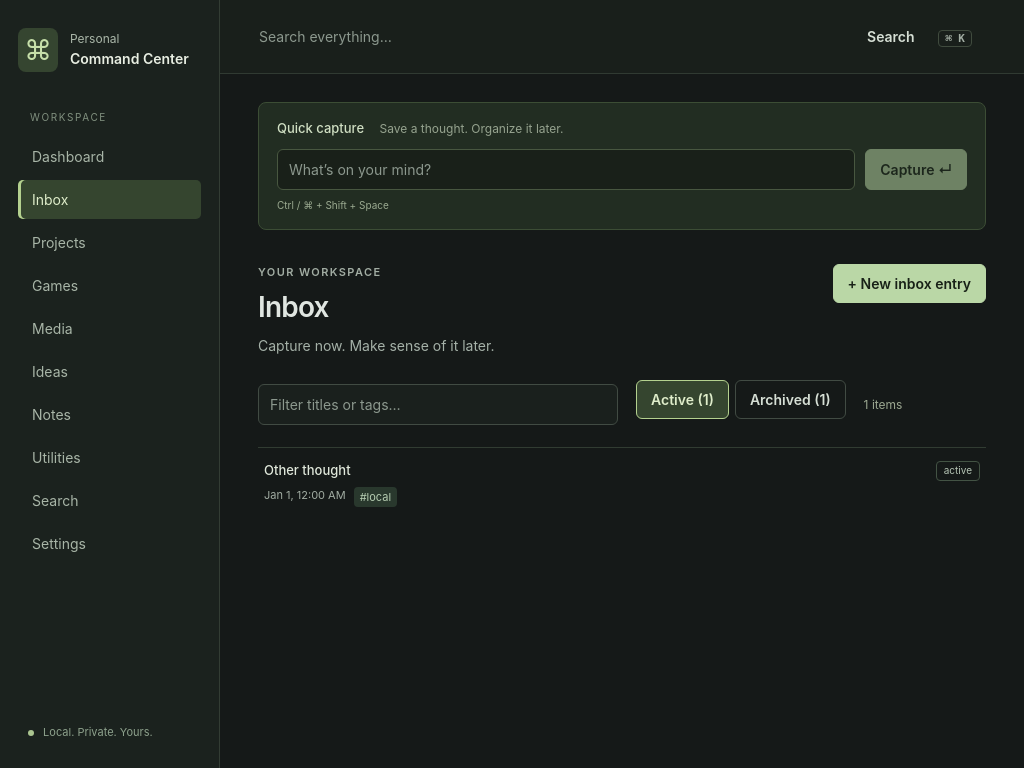
Test case: converted source names destination and explicit inbox modes preserve filters
This screenshot has width=1024, height=768.
Click the button "Archived (1)" at (790, 400), box [735,380,846,419]
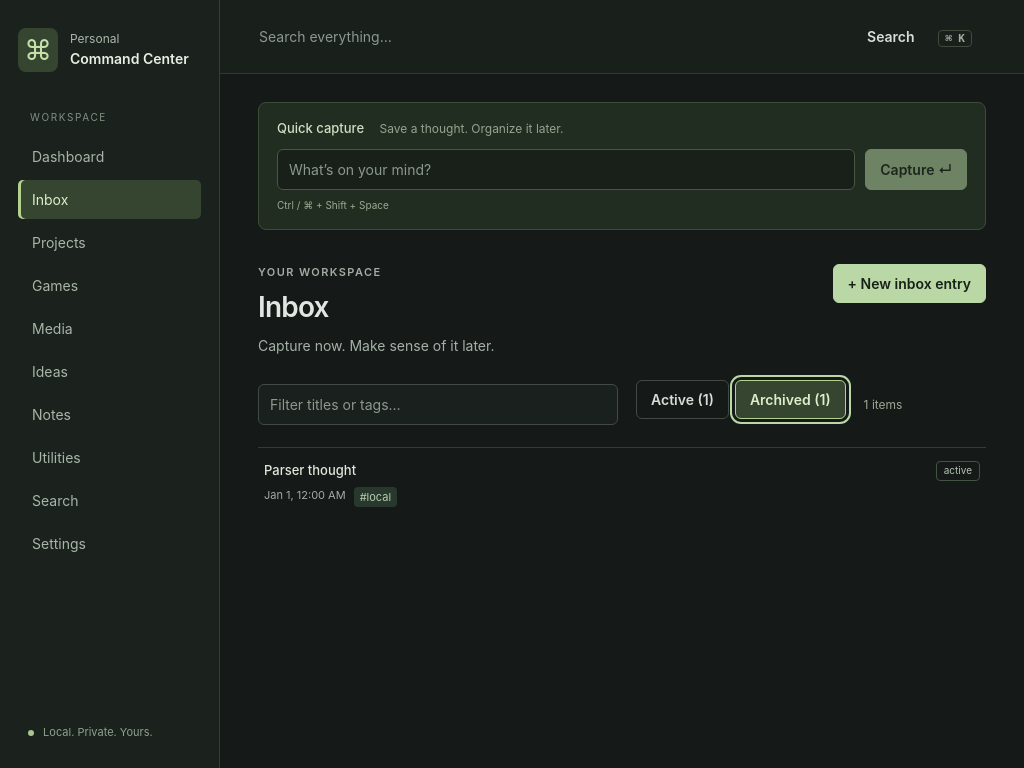
Type "Parser" into the field named "Filter inbox" at (438, 404), box [258,384,618,425]
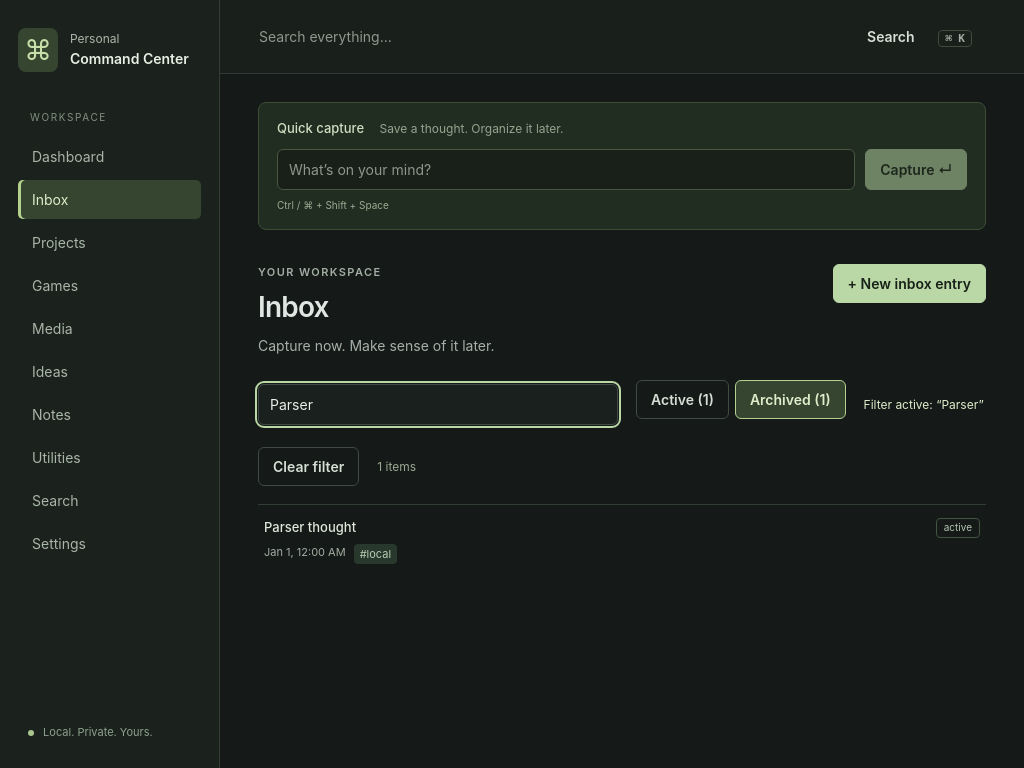
Now the text "Filter active: “Parser”" is shown, box [864,396,984,414]
Click the button "Clear filter" at (309, 466), box [258,447,359,486]
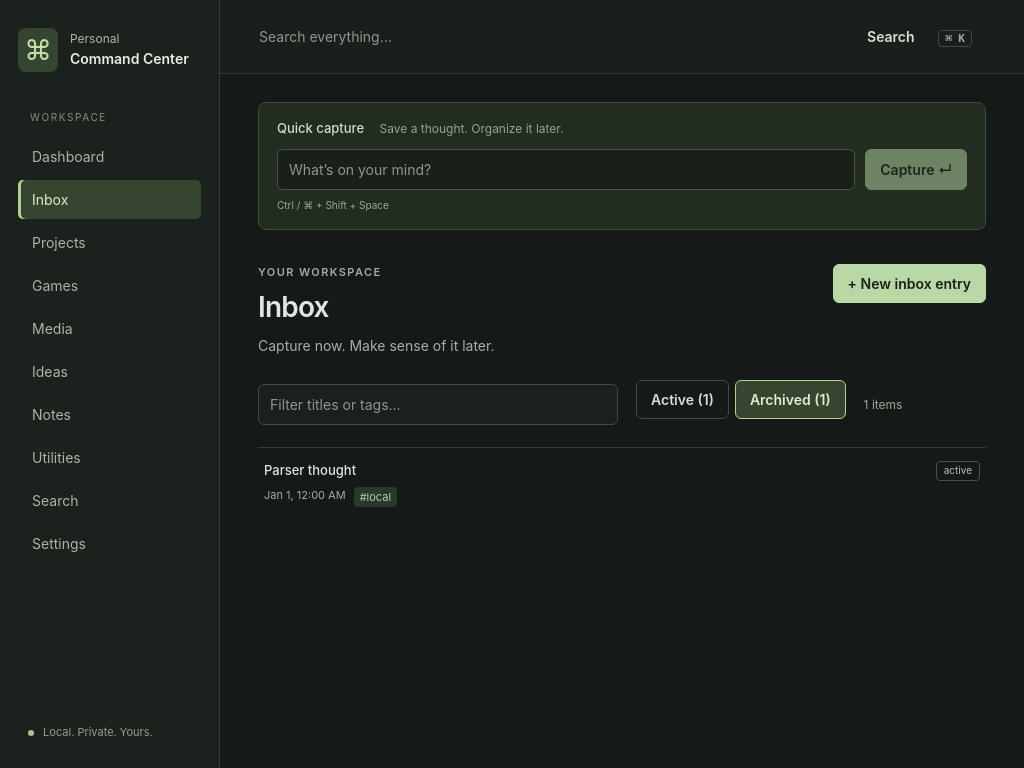
Now the field named "Filter inbox" is empty, box [258,384,618,425]
Click the link "Parser thought active Jan 1, 12:00 AM #local" at (310, 470), box [258,448,986,520]
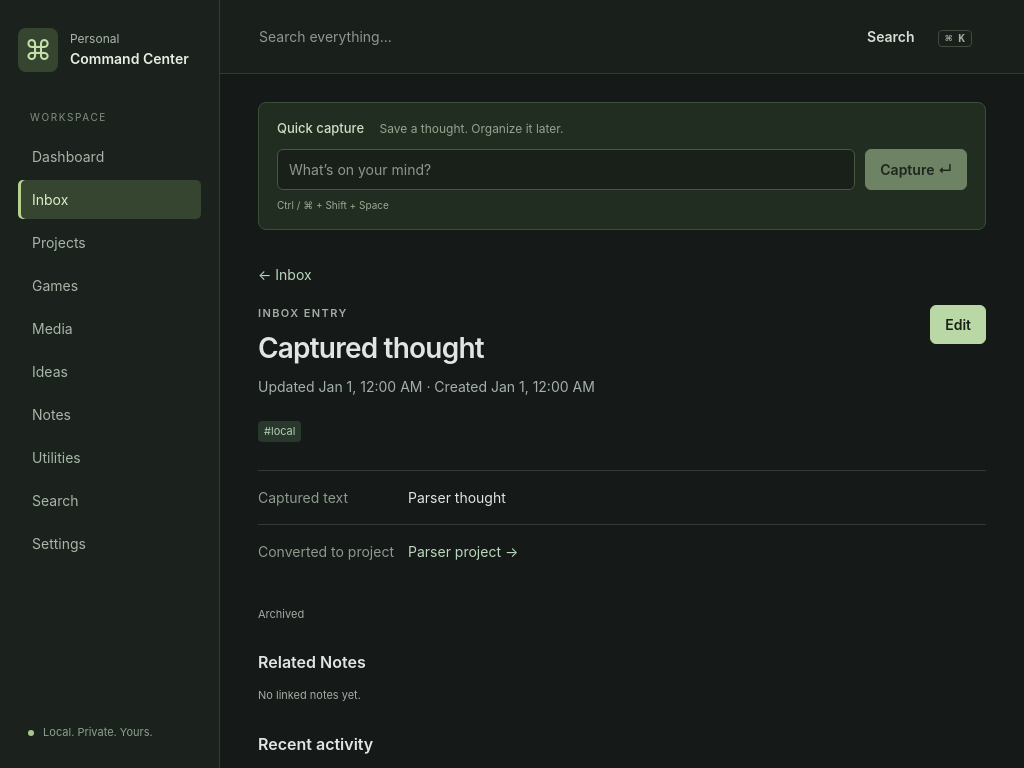
Now the text "Converted to project" is shown, box [258,540,408,562]
